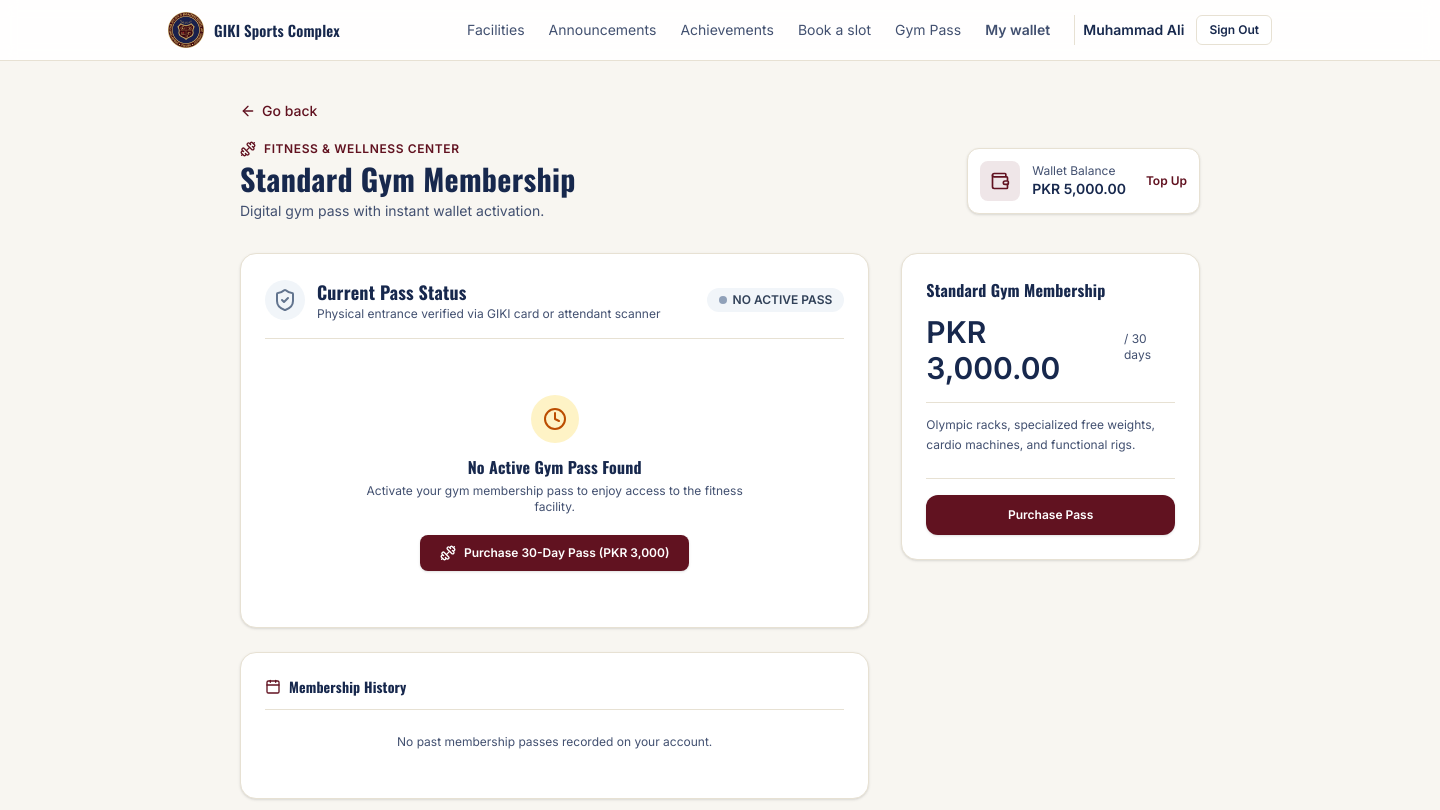
Test: Gym Membership Page Component (Phase 7 / Step 7C) › allows purchasing 30-day pass when wallet has sufficient funds
The image size is (1440, 810).
Expected: the text "NO ACTIVE PASS" is shown, [707,288,844,312]
// Click Purchase 30-Day Pass button
Click the button "Purchase 30-Day Pass (PKR 3,000)" at (555, 553), box [420,535,689,571]
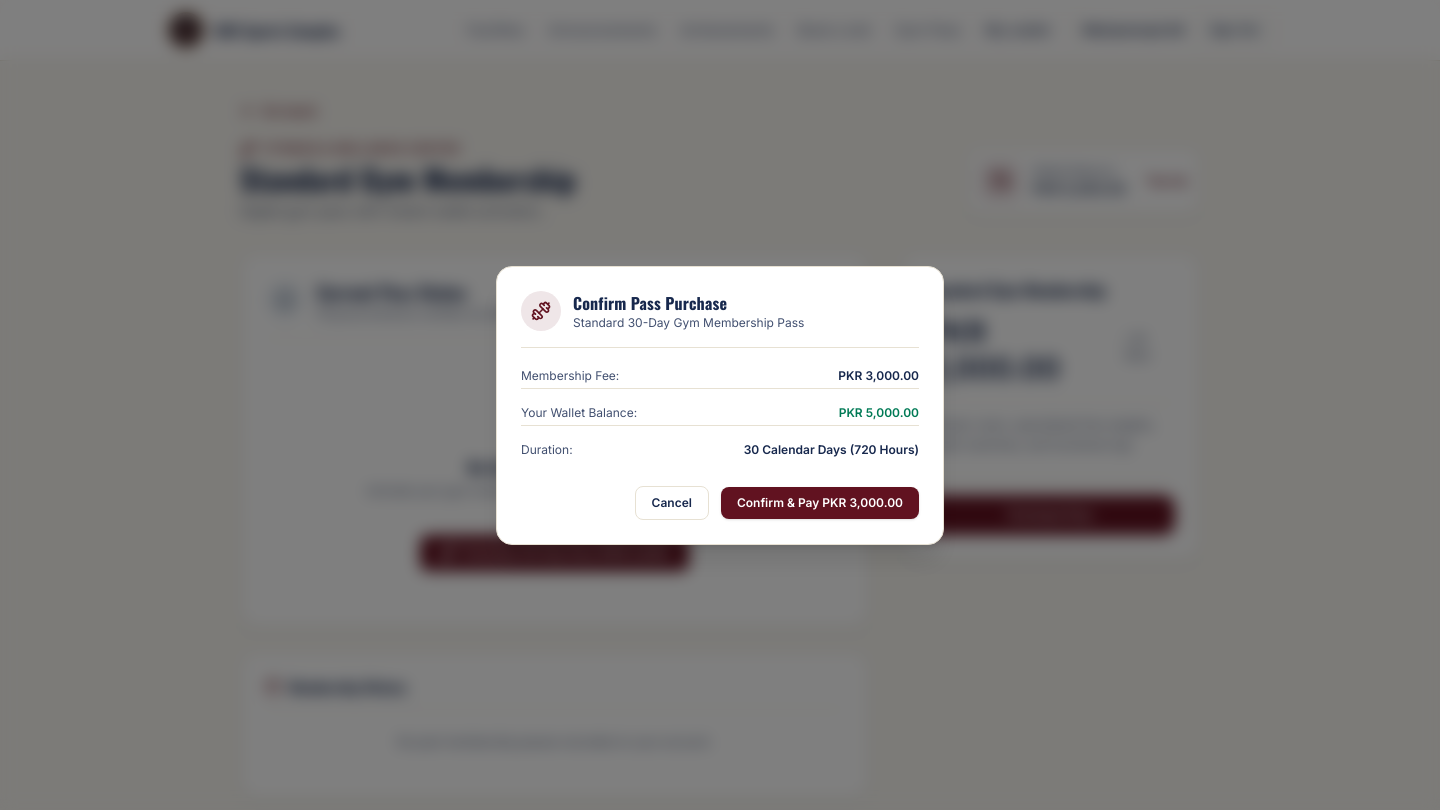
Now the heading "Confirm Pass Purchase" is shown, box [573,290,727,314]
Click the button "Confirm & Pay PKR 3,000.00" at (820, 502), box [721,486,919,518]
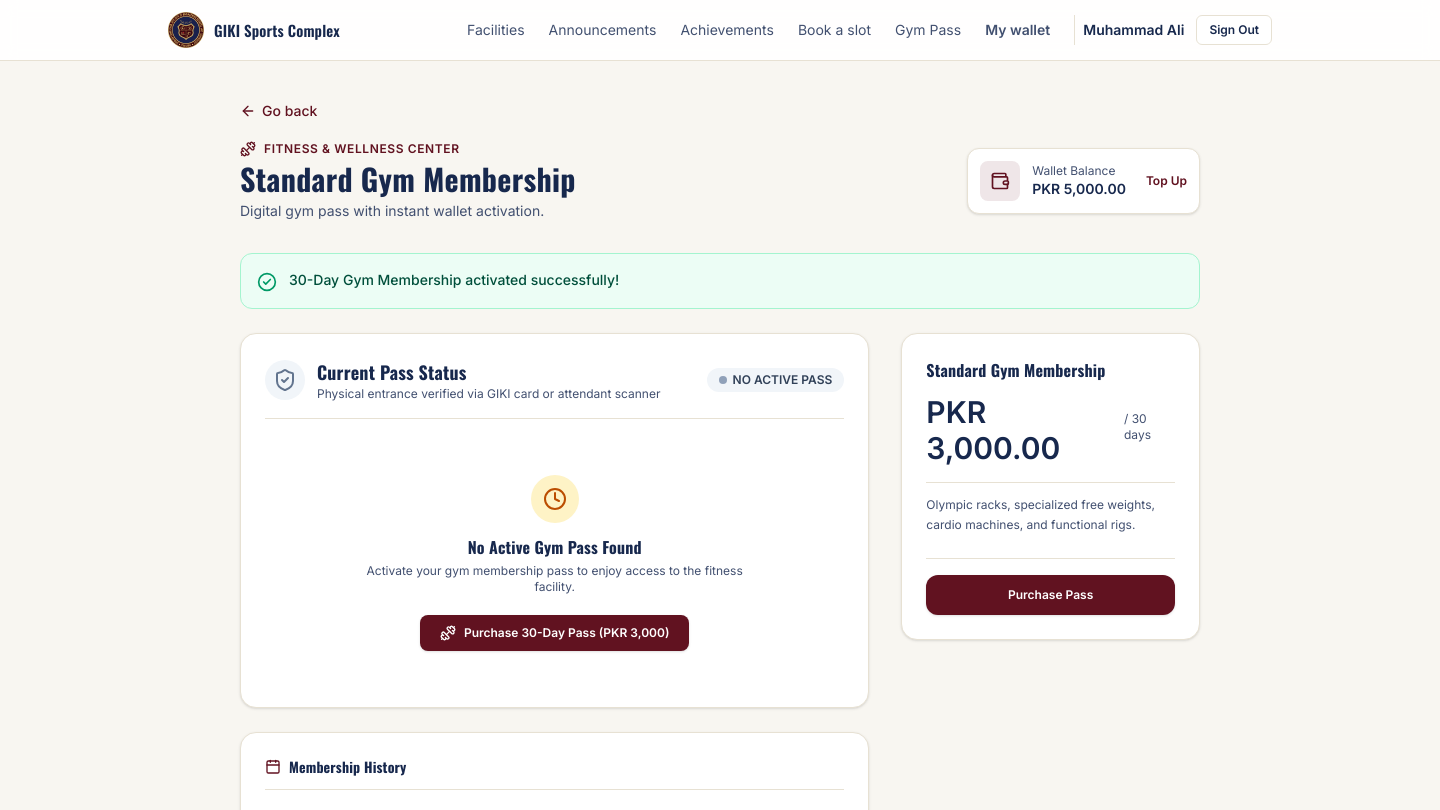
Now the text "30-Day Gym Membership activated successfully!" is shown, box [289,270,619,290]
